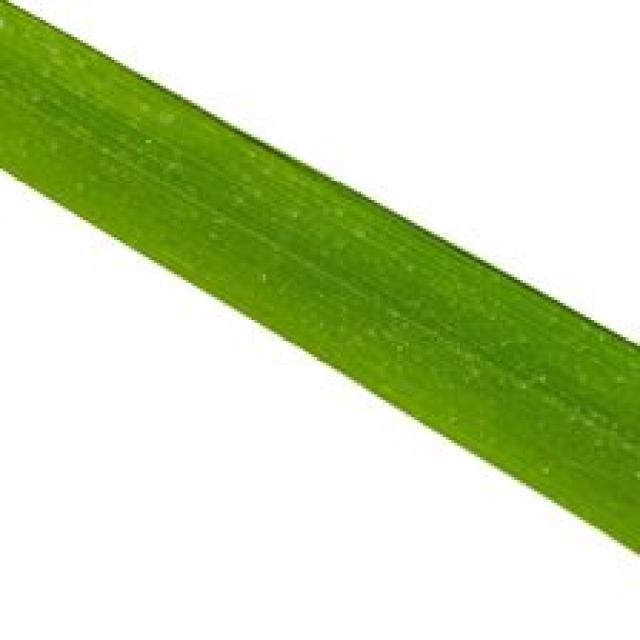Rice___Healthy_Rice_Plant: (0, 0, 637, 557)
